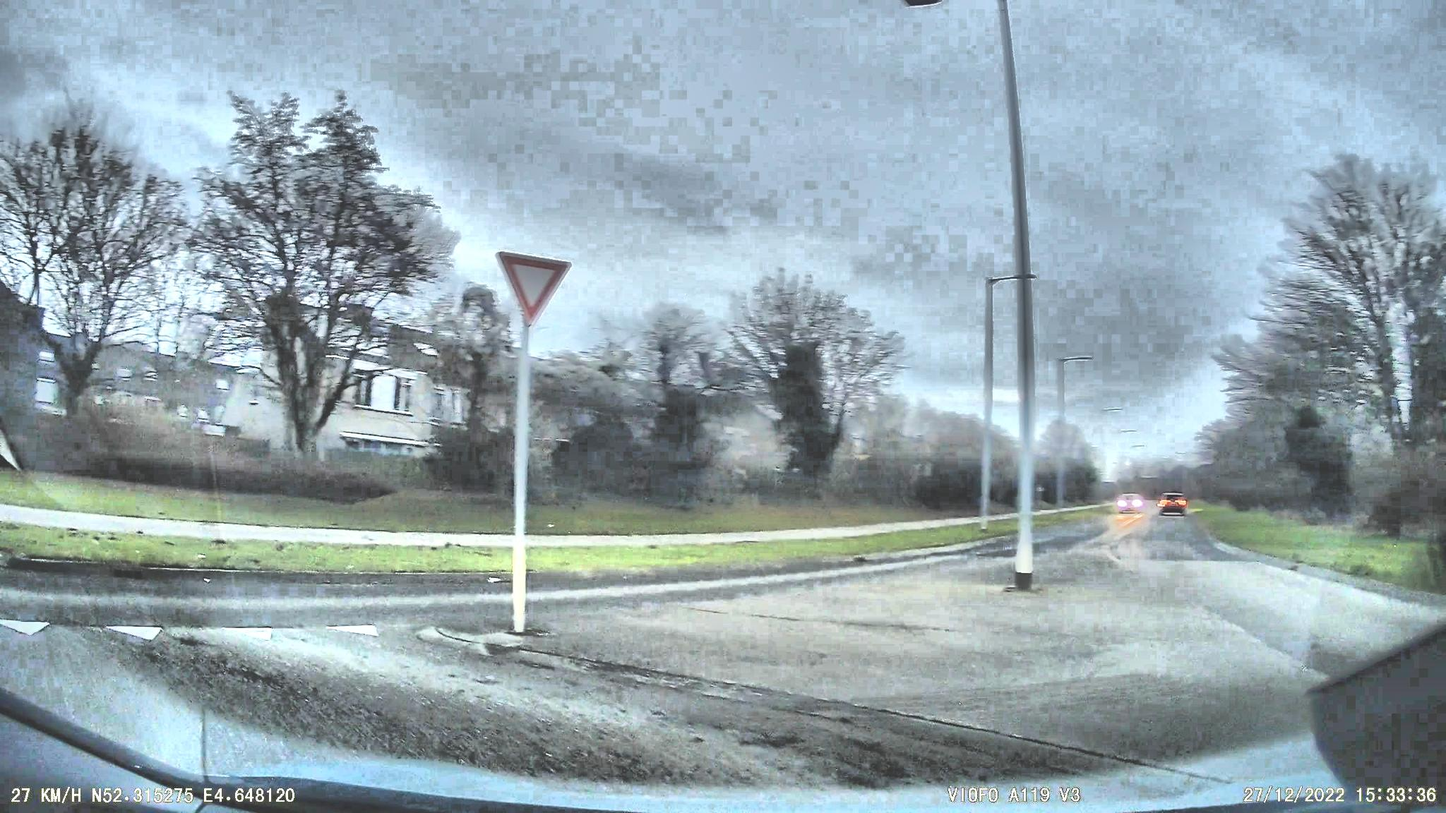Roads: (0, 570, 1236, 813)
